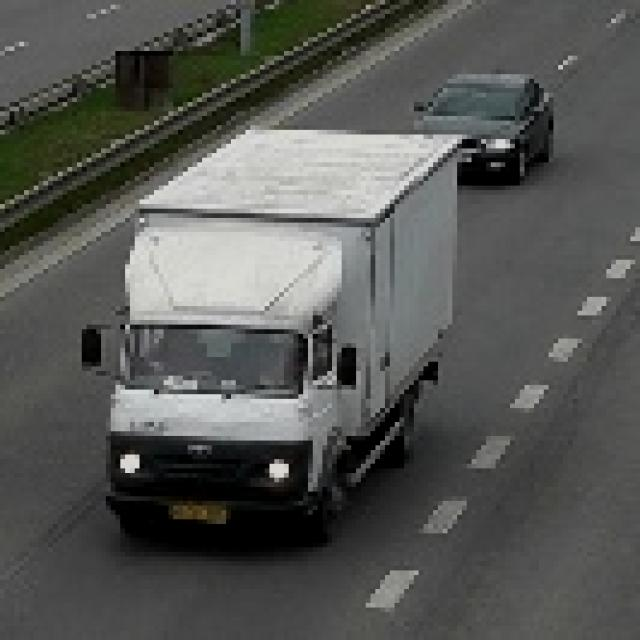truck: (83, 126, 463, 553)
